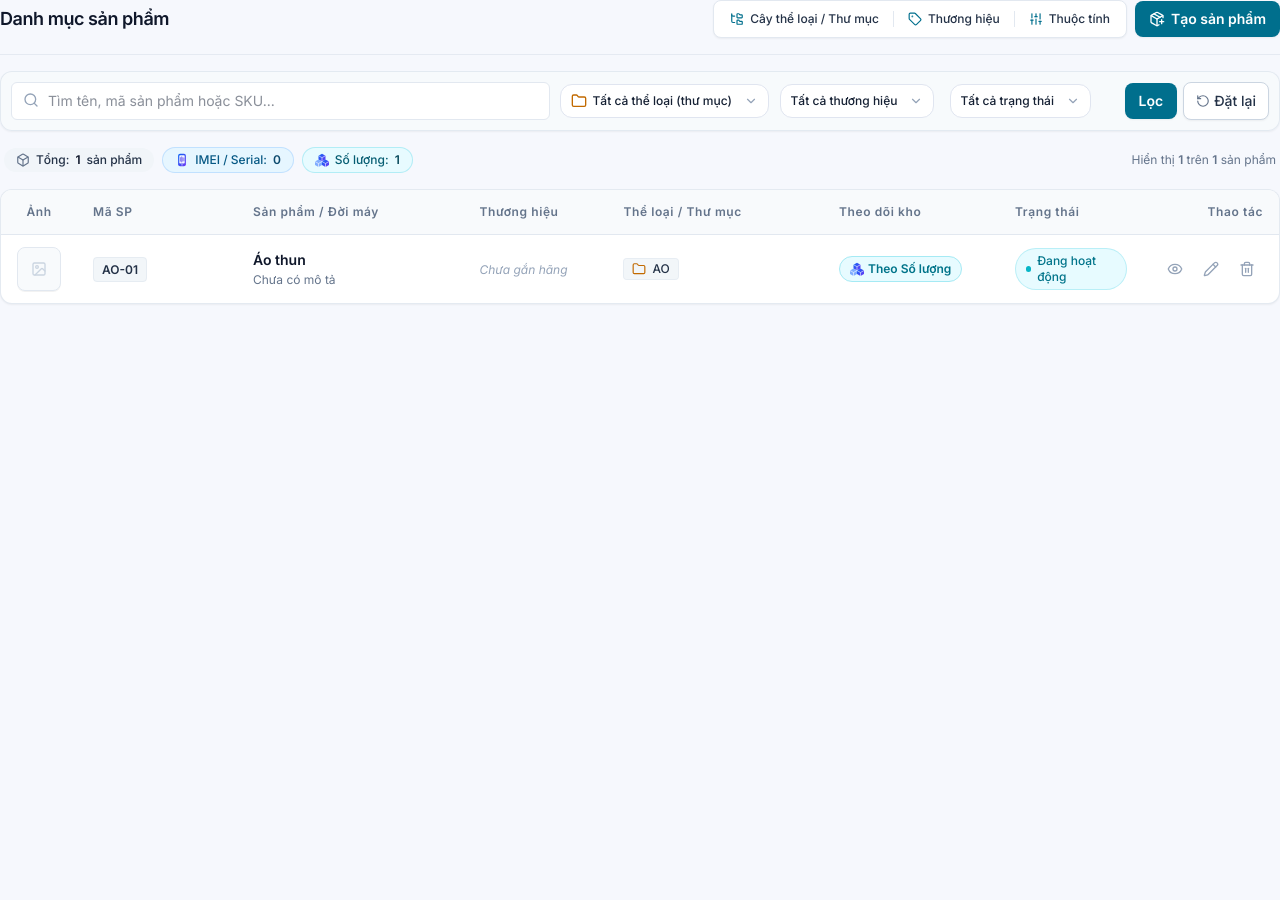
Test: ProductCatalogV2Section bulk SKU form › shows confirmation popup when clicking delete product, and cancels when dismissed
This screenshot has width=1280, height=900.
Expected: the text "Áo thun" is shown, [253, 251, 306, 268]
Click the button titled "Xóa" at (1247, 269), box [1231, 253, 1263, 285]
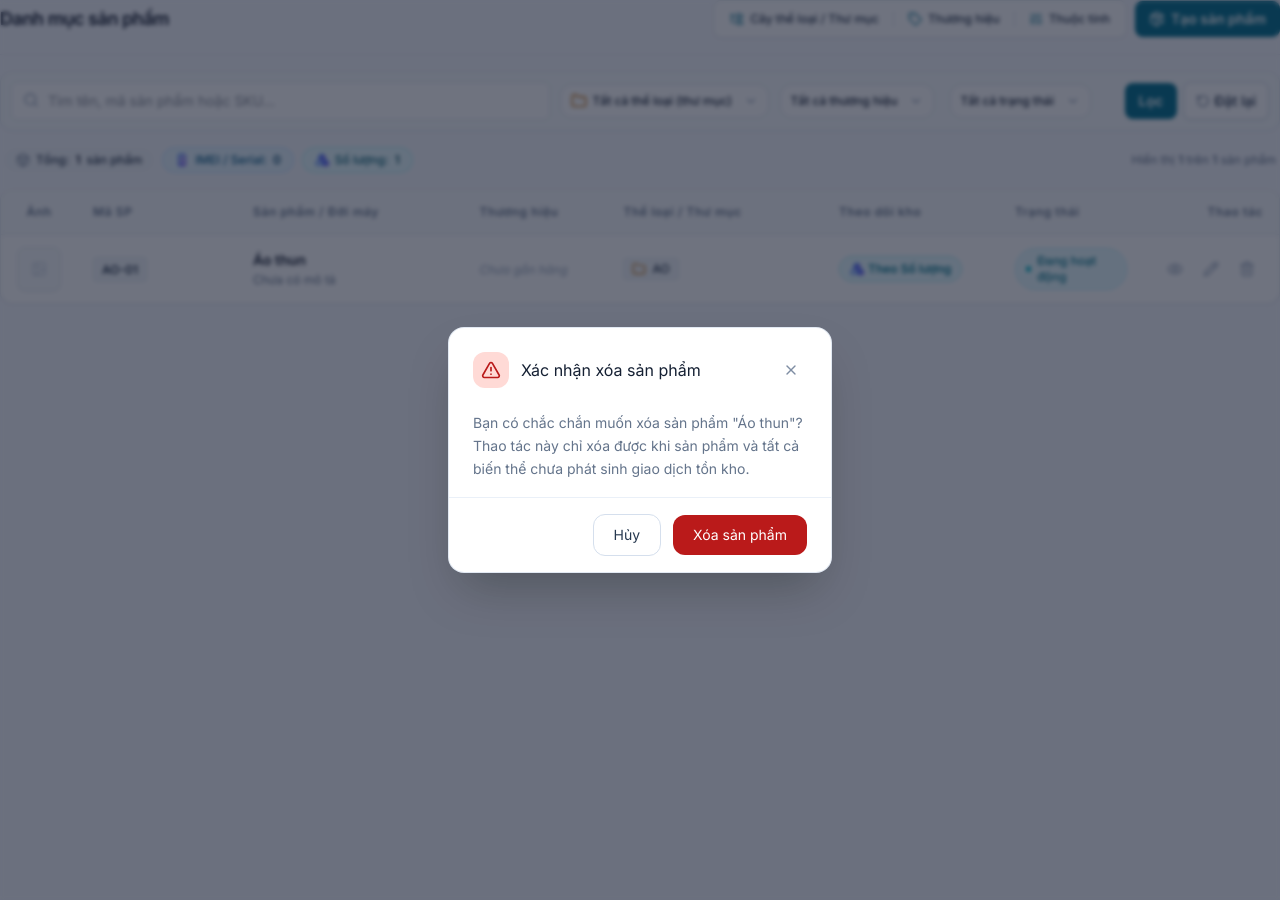
Expected: the heading "Xác nhận xóa sản phẩm" is shown, [521, 358, 701, 382]
Expected: the text "Bạn có chắc chắn muốn xóa sản phẩm \"Áo thun\"" is shown, [473, 414, 803, 477]
# Click "Hủy"
Click the button "Hủy" at (627, 535), box [592, 514, 661, 556]
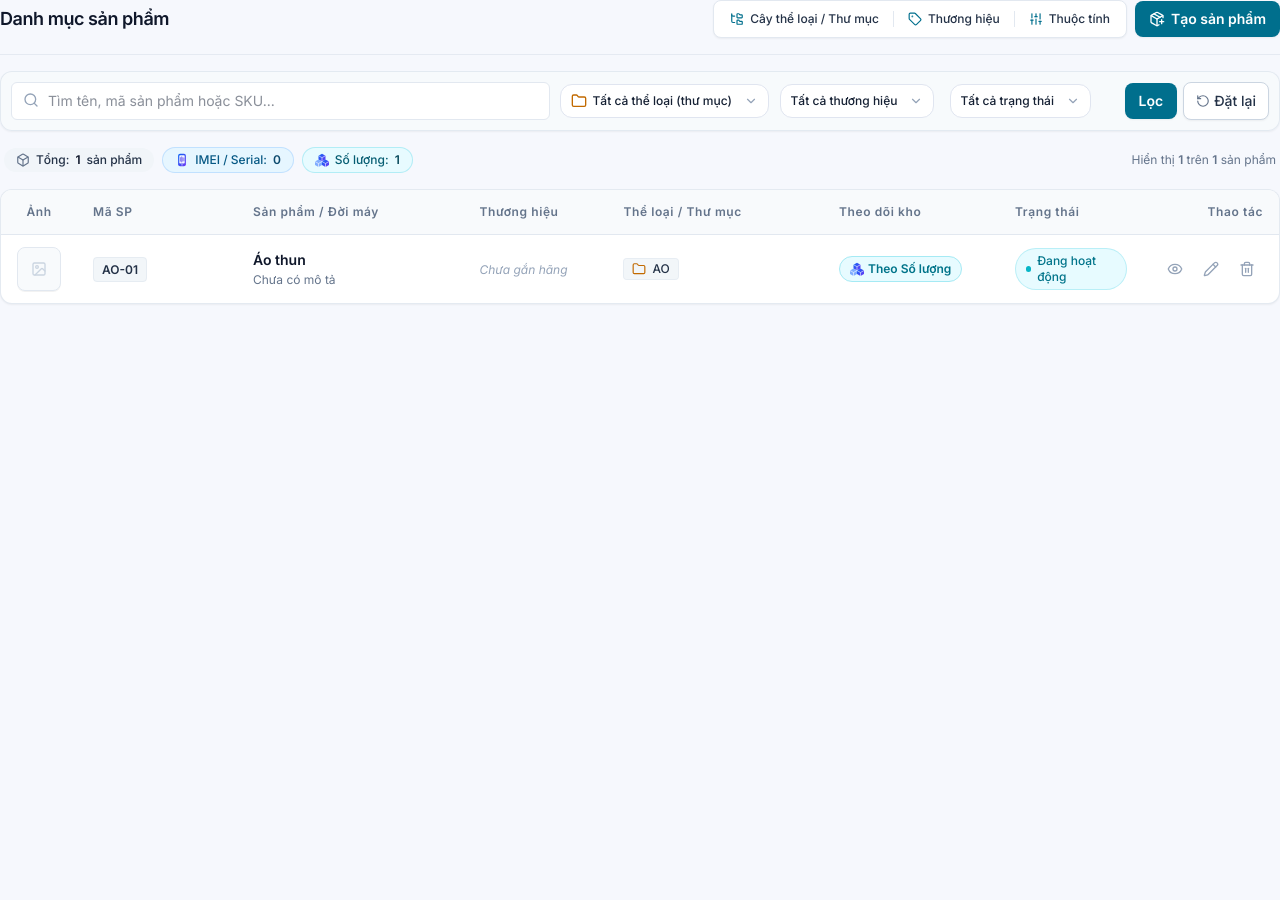
Expected: the heading "Xác nhận xóa sản phẩm" is gone
